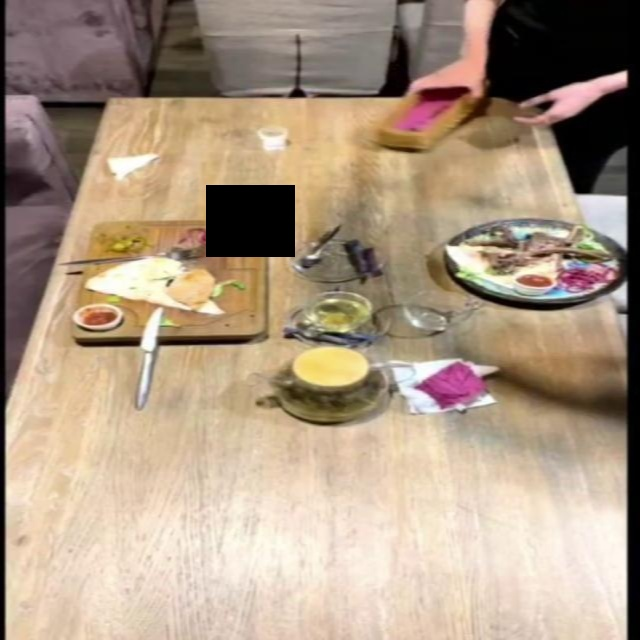meat: (67, 218, 273, 345), (454, 213, 640, 322)
tea: (263, 344, 410, 432)
